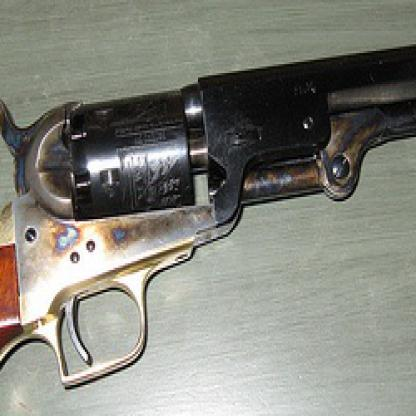gun: (0, 6, 415, 414)
